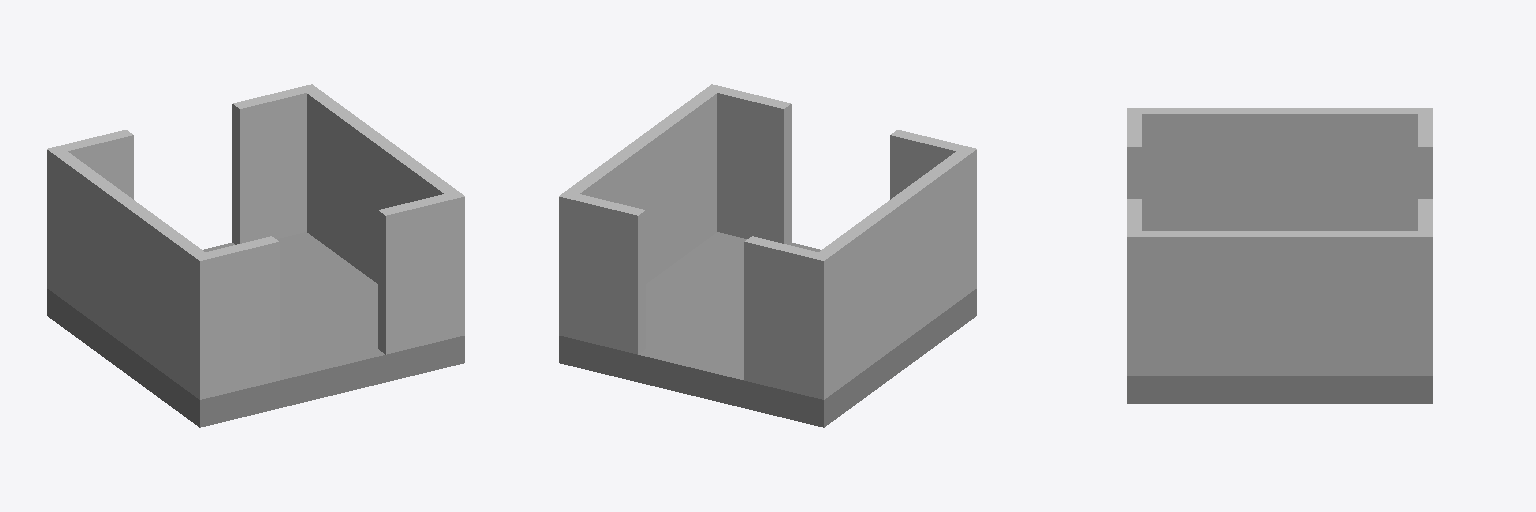
Rendered from big-room_2-exit-across_1.obj.
3 renders of one model, left to right at view 1: azimuth 30°, elevation 25°; view 2: azimuth 150°, elevation 25°; view 3: azimuth 270°, elevation 25°, orthographic.
Visible parts, largest first — view 1: Cube, Cube.006, Cube.004_Cube.002, Cube.002_Cube.007, Cube.007_Cube.008, Cube.001, Cube.003; view 2: Cube.006, Cube, Cube.004_Cube.002, Cube.001, Cube.007_Cube.008, Cube.003, Cube.002_Cube.007; view 3: Cube.004_Cube.002, Cube.006, Cube, Cube.002_Cube.007, Cube.003, Cube.001, Cube.007_Cube.008.
Boxes of the visible parts, <box> form: Cube: <box>47,232,464,427</box>; Cube.006: <box>47,146,212,398</box>; Cube.004_Cube.002: <box>299,84,464,337</box>; Cube.002_Cube.007: <box>192,236,279,399</box>; Cube.007_Cube.008: <box>378,191,464,354</box>; Cube.001: <box>232,84,318,244</box>; Cube.003: <box>47,130,133,288</box>; Cube.006: <box>811,146,976,399</box>; Cube: <box>559,232,976,427</box>; Cube.004_Cube.002: <box>559,84,724,337</box>; Cube.001: <box>559,191,645,354</box>; Cube.007_Cube.008: <box>705,85,791,244</box>; Cube.003: <box>744,236,831,399</box>; Cube.002_Cube.007: <box>890,130,976,291</box>; Cube.004_Cube.002: <box>1127,231,1432,375</box>; Cube.006: <box>1134,108,1432,230</box>; Cube: <box>1127,376,1432,403</box>; Cube.002_Cube.007: <box>1127,108,1141,198</box>; Cube.003: <box>1418,108,1432,198</box>; Cube.001: <box>1418,199,1432,375</box>; Cube.007_Cube.008: <box>1127,199,1141,375</box>.
Size of the model in its own units: 10 by 6 by 10.